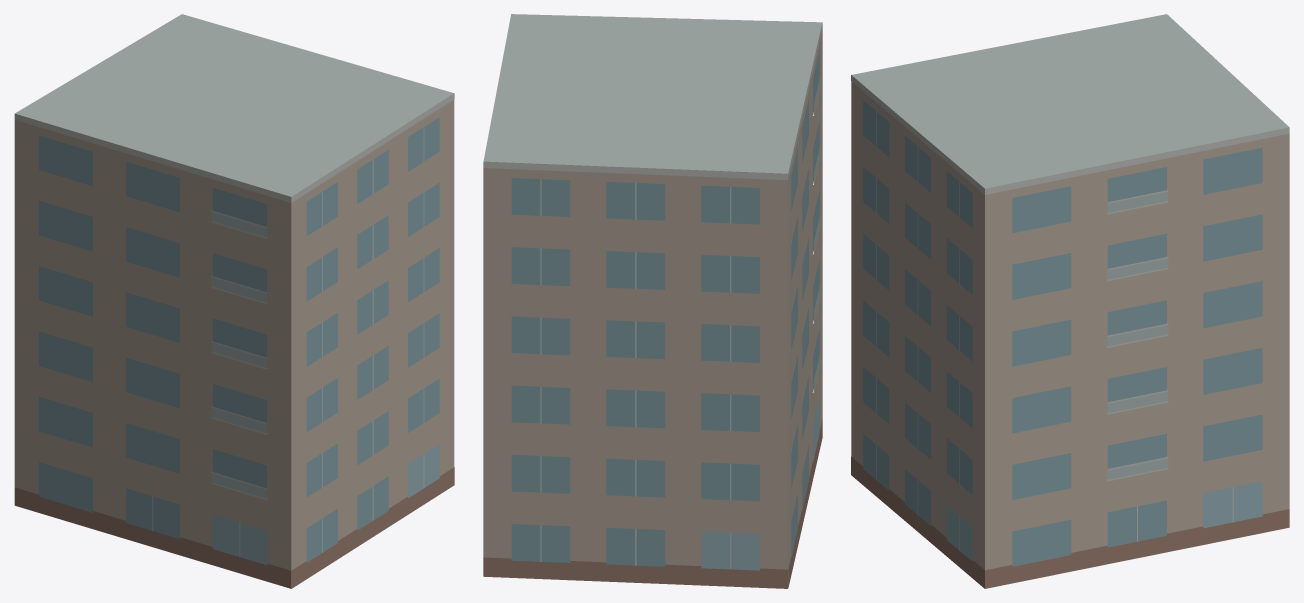
Rendered from survey-upis-32730108.glb.
3 renders of one model, left to right at view 1: azimuth 30°, elevation 25°; view 2: azimuth 150°, elevation 25°; view 3: azimuth 270°, elevation 25°, orthographic. The views are drawn at different scales.
Parts seen in each view (by area): view 1: survey-upis-32730108.tmp; view 2: survey-upis-32730108.tmp; view 3: survey-upis-32730108.tmp.
Part boxes in pixels (x1,y1,x2,y2): survey-upis-32730108.tmp: (14, 14, 454, 588); survey-upis-32730108.tmp: (483, 14, 822, 588); survey-upis-32730108.tmp: (851, 14, 1289, 588).
Bounding box in the file's own units: 14.71 × 15.7 × 15.6.
